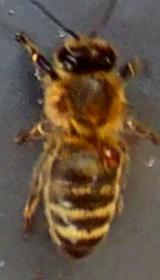varroa_mite: (91, 142, 128, 174)
